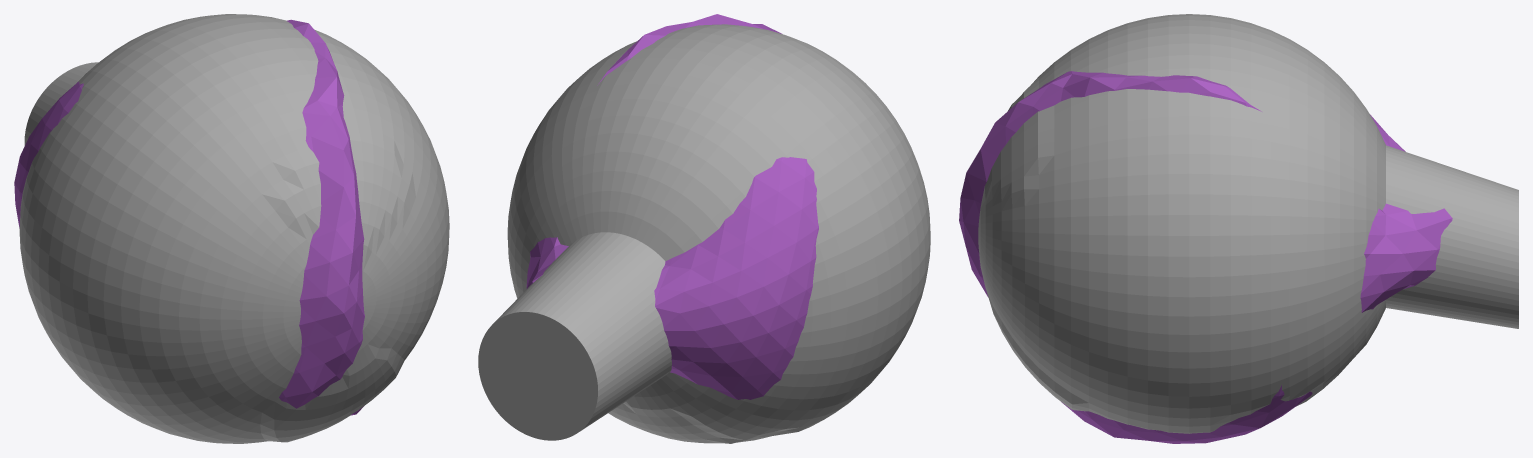
Rendered from G10_A0_ALIGNED_GT.glb.
The picture shows the model from 3 angles, left to right: view 1: azimuth 30°, elevation 25°; view 2: azimuth 150°, elevation 25°; view 3: azimuth 270°, elevation 25°; orthographic projection.
Parts seen in each view (by area): view 1: Independent_GT, A0; view 2: Independent_GT, A0; view 3: Independent_GT, A0.
Part boxes in pixels (<box>): Independent_GT: <box>19,14,449,443</box>; A0: <box>14,19,364,415</box>; Independent_GT: <box>478,24,930,443</box>; A0: <box>526,14,818,399</box>; Independent_GT: <box>978,14,1518,433</box>; A0: <box>959,71,1452,443</box>.
Bounding box in the file's own units: 0.0062 × 0.0062 × 0.00816.
